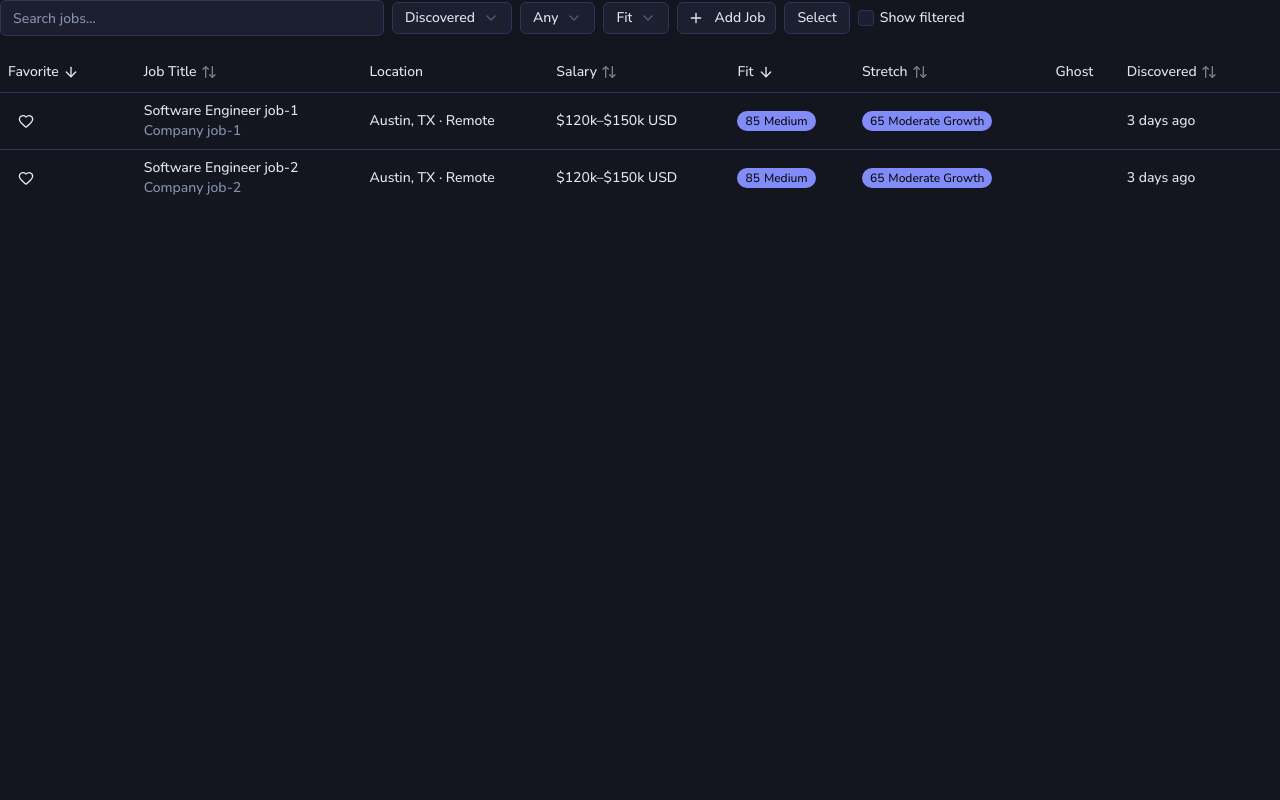
OpportunitiesTable › toolbar › opens AddJobModal when Add Job button is clicked
Click the button with test id "add-job-button" at (727, 18), box left=678, top=2, right=776, bottom=34
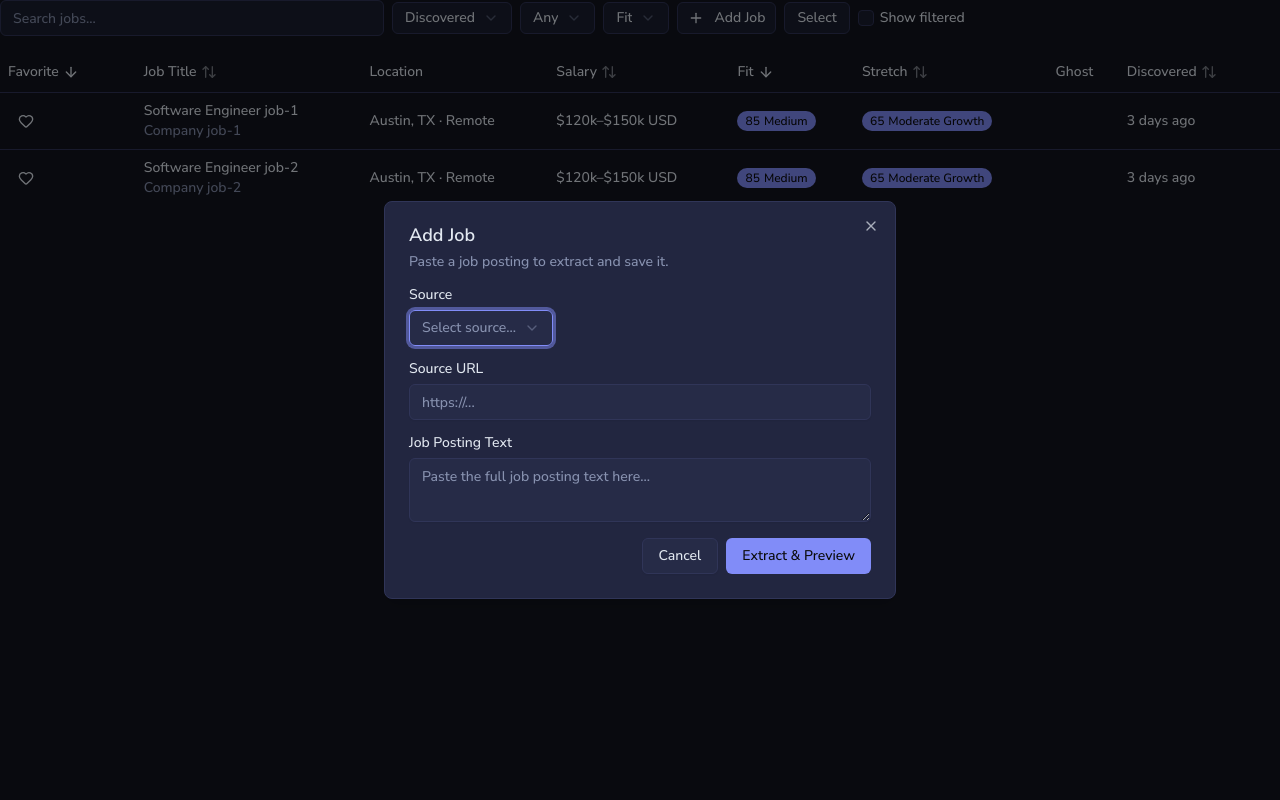
Expected: the text "Paste a job posting to extract and save it." is shown, left=409, top=252, right=668, bottom=271
